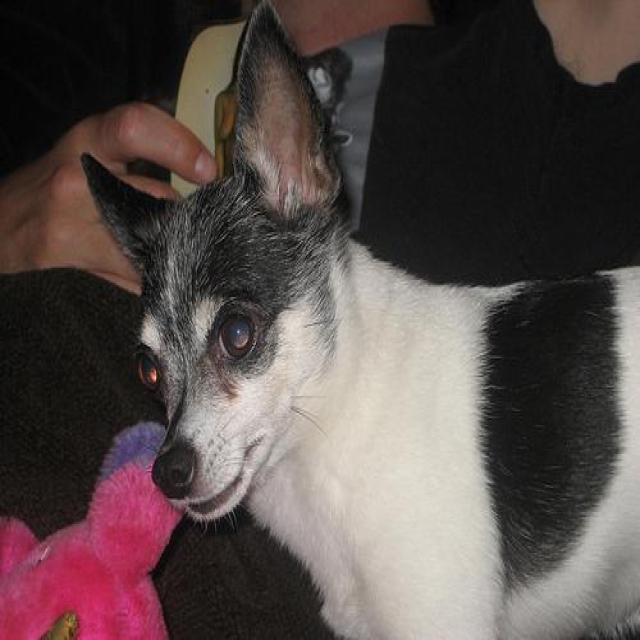toy_terrier: (78, 0, 638, 638)
